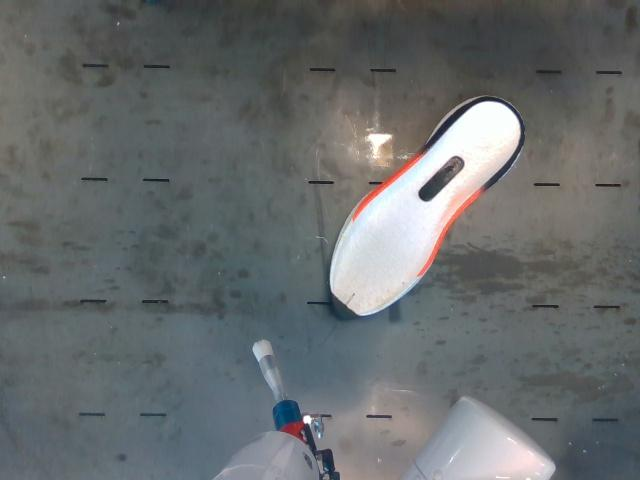shoes: (332, 101, 520, 317)
